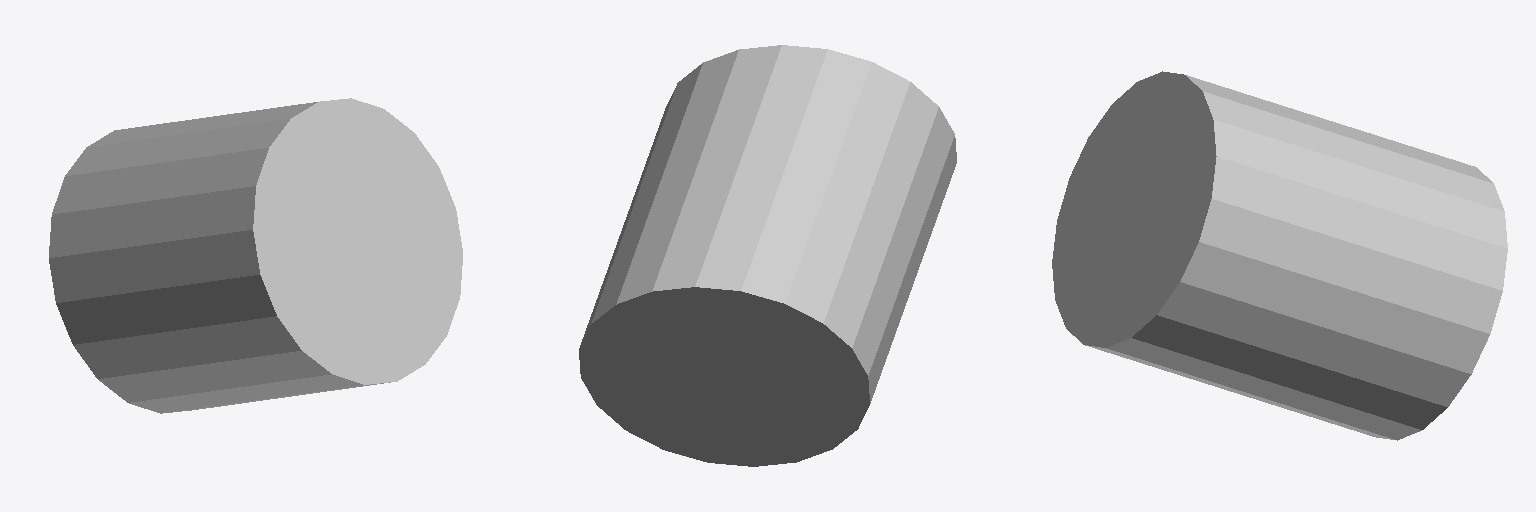
File: Resaltado_Supraorbitario_I.obj
The picture shows the model from 3 angles: view 1: azimuth 30°, elevation 25°; view 2: azimuth 150°, elevation 25°; view 3: azimuth 270°, elevation 25°; orthographic projection.
Parts seen in each view (by area): view 1: polySurface4 Marcadores1; view 2: polySurface4 Marcadores1; view 3: polySurface4 Marcadores1.
Part boxes in pixels (bbox=[...]): polySurface4 Marcadores1: bbox=[49, 98, 462, 413]; polySurface4 Marcadores1: bbox=[579, 45, 956, 466]; polySurface4 Marcadores1: bbox=[1052, 71, 1507, 440].
Bounding box in the file's own units: 0.0329 × 0.037 × 0.0432.